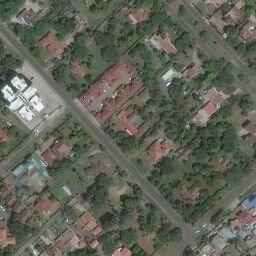tree: (100, 213, 117, 229), (95, 173, 112, 186), (101, 46, 117, 58), (168, 227, 182, 240), (235, 42, 248, 55), (74, 32, 85, 46), (191, 162, 203, 171), (150, 169, 160, 179), (177, 4, 186, 15), (123, 21, 132, 30), (71, 144, 81, 152), (84, 74, 92, 83), (199, 30, 208, 37), (175, 180, 182, 189), (108, 129, 115, 135), (174, 199, 180, 206)
